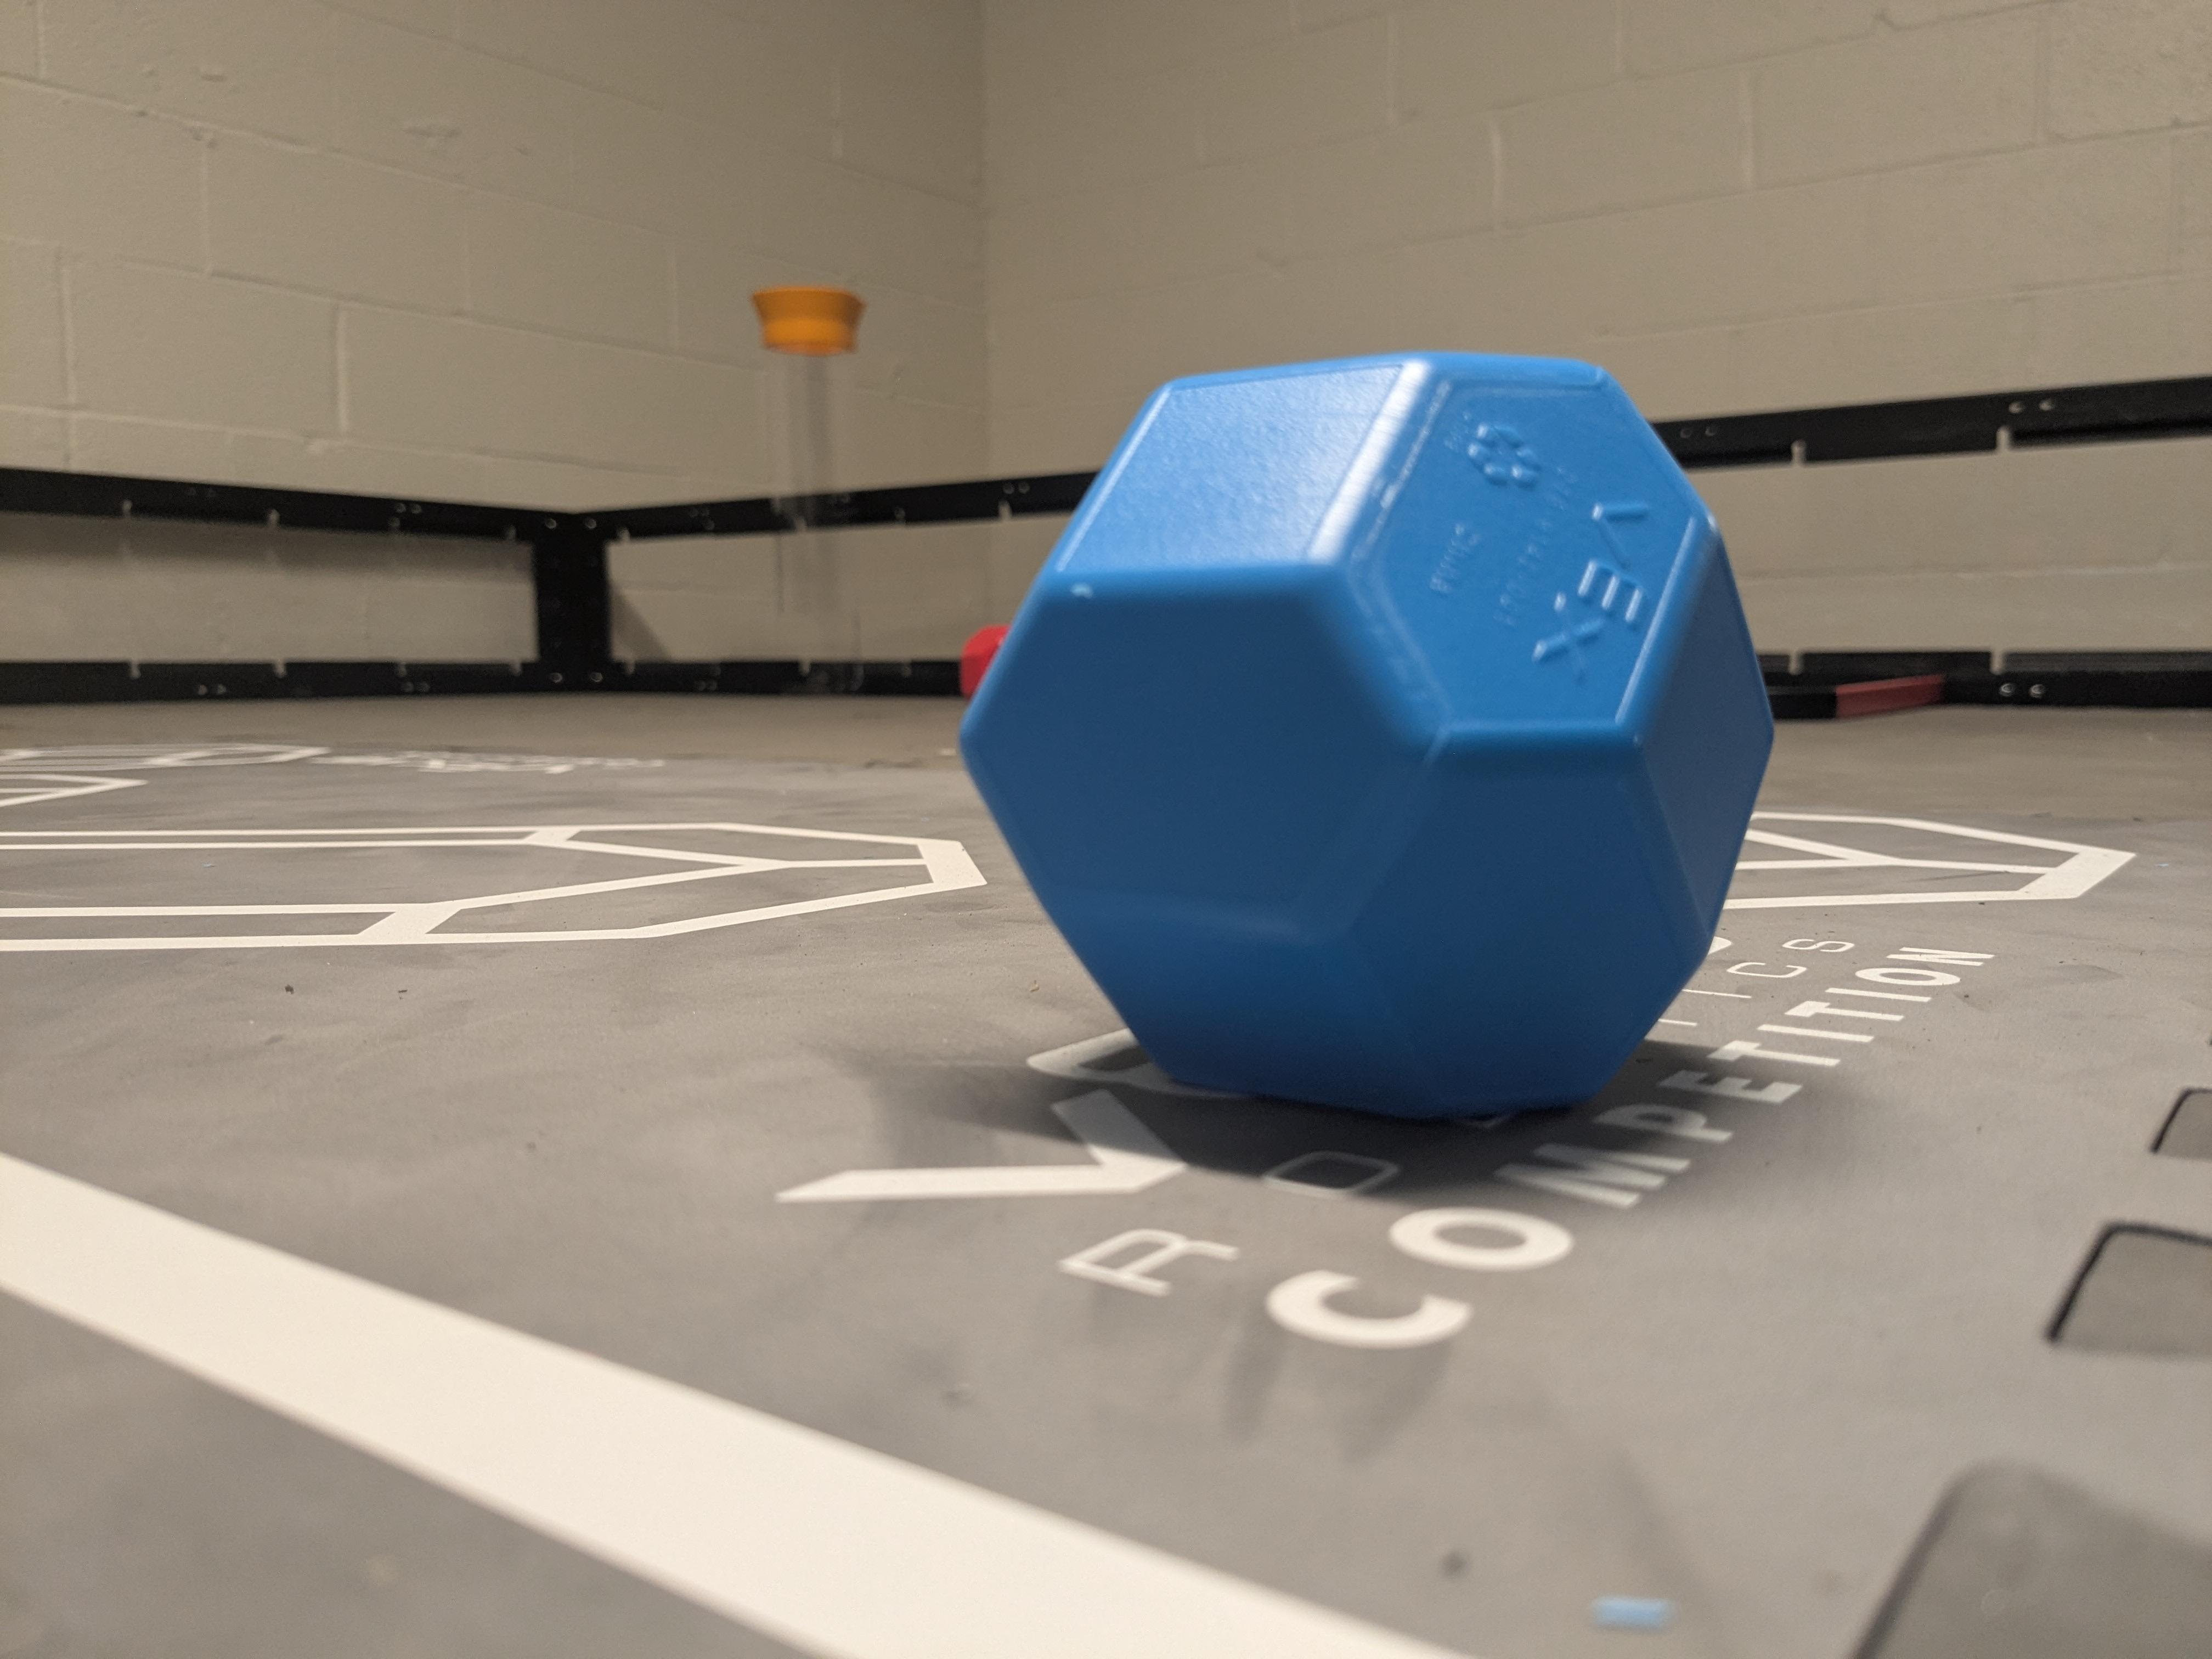Vex-Pieces-BLUE: (953, 352, 1777, 1138)
